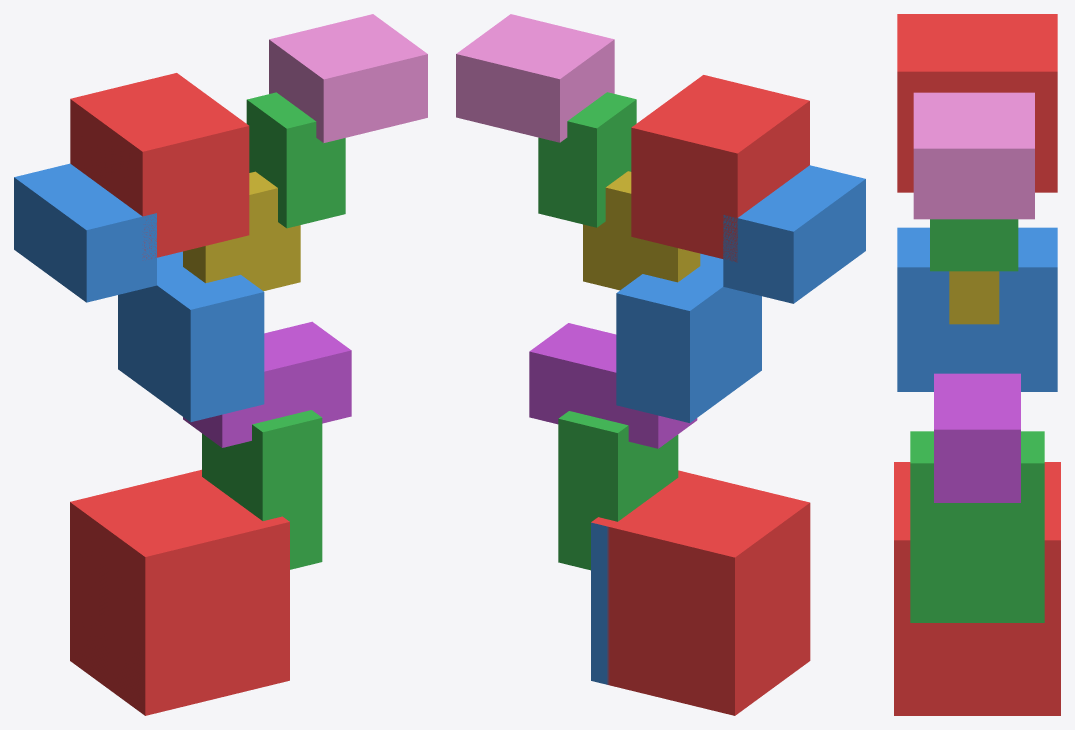
The model's file is Gallery_BlockArtStatue.fbx.
3 views of the same model, side by side, from view 1: azimuth 30°, elevation 25°; view 2: azimuth 150°, elevation 25°; view 3: azimuth 270°, elevation 25° (orthographic). The views are drawn at different scales.
Visible parts, largest first — view 1: pCube68, pCube64, pCube65, pCube70, pCube69, pCube67, pCube66, pCube63, pCube62; view 2: pCube68, pCube64, pCube65, pCube70, pCube69, pCube67, pCube66, pCube63, pCube62; view 3: pCube68, pCube67, pCube65, pCube64, pCube70, pCube66, pCube63, pCube62.
Part boxes in pixels (x1,y1,x2,y2): pCube68: (70,469,289,715); pCube64: (70,73,249,259); pCube65: (118,251,264,422); pCube70: (269,14,427,142); pCube69: (14,163,156,302); pCube67: (202,410,322,569); pCube66: (183,321,351,447); pCube63: (246,92,345,228); pCube62: (183,171,300,291); pCube68: (591,470,810,715); pCube64: (631,75,809,262); pCube65: (616,253,761,422); pCube70: (456,14,614,142); pCube69: (723,165,865,303); pCube67: (558,411,678,570); pCube66: (529,323,697,448); pCube63: (538,92,636,227); pCube62: (583,171,700,290); pCube68: (894,462,1060,715); pCube67: (910,431,1044,622); pCube65: (897,227,1057,391); pCube64: (897,14,1057,192); pCube70: (913,92,1034,219); pCube66: (934,373,1020,502); pCube63: (930,219,1018,271); pCube62: (949,271,999,324).
Size of the model in its own units: 10.77 by 17.24 by 4.03.
